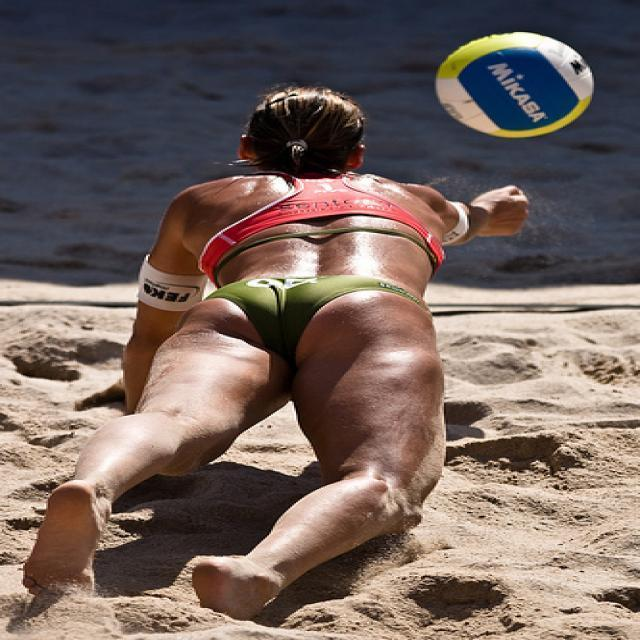volleyball: (436, 31, 594, 138)
